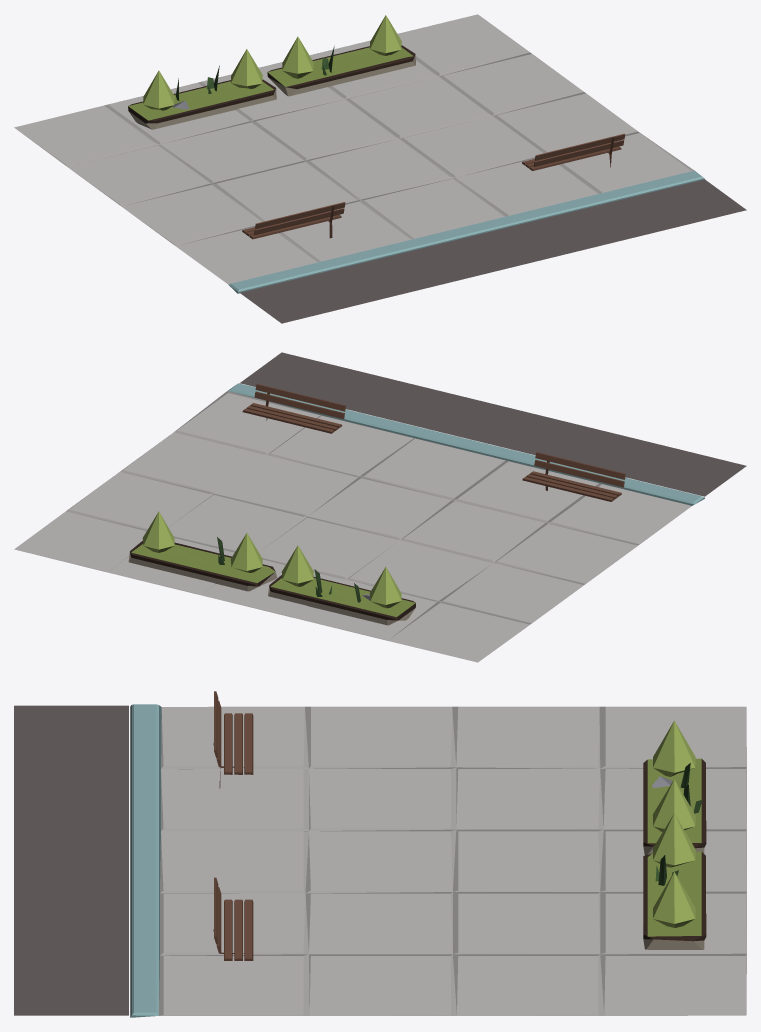
File: QmbFVaSVsSkokaVxwz6SLSvnzpHALSYKkSq82hMRmZH4vU_lod2.fbx
3 renders of one model, top to bottom at view 1: azimuth 30°, elevation 25°; view 2: azimuth 150°, elevation 25°; view 3: azimuth 270°, elevation 25°, orthographic. The views are drawn at different scales.
Visible parts, largest first — view 1: Entity_513; view 2: Entity_513; view 3: Entity_513.
Boxes of the visible parts, x1,y1,x2,y2 form: Entity_513: (14,14,746,323); Entity_513: (14,352,746,662); Entity_513: (14,691,746,1017).
Bounding box in the file's own units: 16000 × 1591 × 15918.
1 material, 1 textured.
